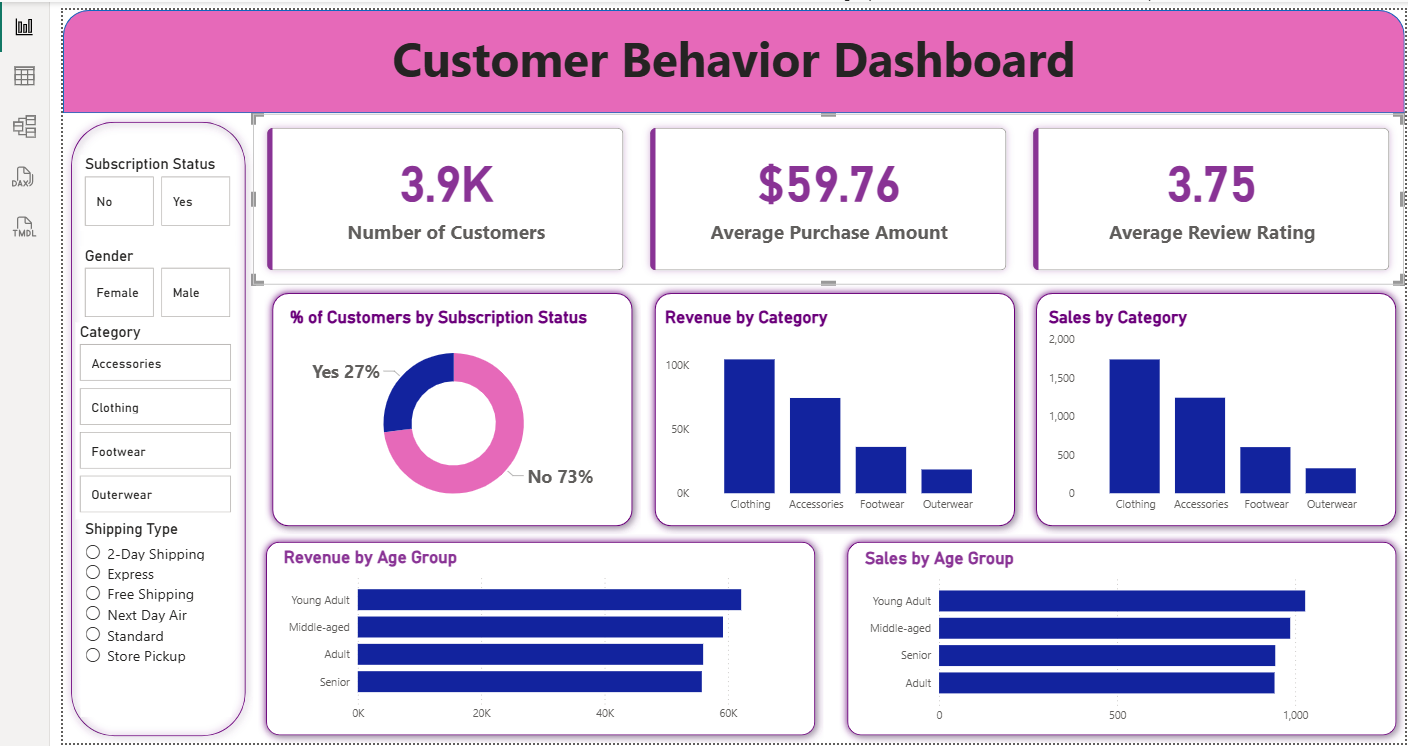

What the dashboard file says about the page in this screenshot:
{"tool":"powerbi","page":{"name":"Page 1","canvas":[1500,820],"ordinal":0},"visuals":[{"type":"cardVisual","fields":{"Data":["public customer.Number of Customers","public customer.Average Purchase Amount","public customer.Average Review Rating"]},"box":[212.9,115.3,1286.5,191.6],"z":2000},{"type":"shape","box":[218.3,585.6,631.7,234.2],"z":2500,"group":"g1"},{"type":"shape","box":[0,0,1499.4,115.3],"z":3000},{"type":"textbox","box":[0,12.4,1499.4,102.9],"z":4000},{"type":"shape","box":[225.4,307,420.5,278.6],"z":5000},{"type":"donutChart","title":"% of Customers by Subscription Status","fields":{"Category":["public customer.subscription_status"],"Y":["CountNonNull(public customer.customer_id)"]},"box":[248.4,331.8,376.2,237.8],"z":6000},{"type":"shape","box":[1078.9,307,420.5,278.6],"z":7000},{"type":"shape","box":[652.1,307,420.5,278.6],"z":8000},{"type":"clusteredColumnChart","title":"Revenue by Category","fields":{"Y":["Sum(public customer.purchase_amount)"],"Category":["public customer.category"]},"box":[667.2,331.8,385.1,237.8],"z":9000},{"type":"clusteredColumnChart","title":"Sales by Category","fields":{"Y":["CountNonNull(public customer.customer_id)"],"Category":["public customer.category"]},"box":[1096.6,331.8,385.1,237.8],"z":10000},{"type":"shape","box":[0,115.6,213.1,704.7],"z":11000},{"type":"advancedSlicerVisual","fields":{"Values":["public customer.subscription_status"]},"box":[19.5,161.5,173.9,85.2],"z":12000},{"type":"advancedSlicerVisual","fields":{"Values":["public customer.gender"]},"box":[19.5,264.4,173.9,85.2],"z":13000},{"type":"advancedSlicerVisual","fields":{"Values":["public customer.category"]},"box":[14.2,358.4,179.2,186.3],"z":14000},{"type":"listSlicer","fields":{"Values":["public customer.shipping_type"]},"box":[19.5,569.6,168.6,220],"z":15000},{"type":"shape","box":[867.7,585.6,631.7,234.2],"z":16000},{"type":"clusteredBarChart","title":"Sales by Age Group","fields":{"Y":["CountNonNull(public customer.customer_id)"],"Category":["public customer.age_group"]},"box":[890.8,601.5,585.6,204.1],"z":17000},{"type":"clusteredBarChart","title":"Revenue by Age Group","fields":{"Y":["Sum(public customer.purchase_amount)"],"Category":["public customer.age_group"]},"box":[241.4,601.6,585.6,204.1],"z":17500,"group":"g1"},{"type":"group","id":"g1","title":"Group 1","box":[218.3,585.6,631.7,234.2],"z":17501}]}

Visuals, with their boxes in screenshot pixels (x1, y1, x2, y2):
cardVisual - public customer.Number of Customers x public customer.Average Purchase Amount: BBox(260, 114, 1407, 286)
shape: BBox(265, 535, 831, 745)
shape: BBox(70, 11, 1407, 114)
textbox: BBox(70, 22, 1407, 114)
shape: BBox(271, 286, 648, 535)
"% of Customers by Subscription Status" donutChart: BBox(292, 308, 629, 521)
shape: BBox(1035, 286, 1407, 535)
shape: BBox(653, 286, 1030, 535)
"Revenue by Category" clusteredColumnChart: BBox(667, 308, 1012, 521)
"Sales by Category" clusteredColumnChart: BBox(1051, 308, 1396, 521)
shape: BBox(70, 114, 260, 745)
advancedSlicerVisual - public customer.subscription_status: BBox(87, 156, 243, 232)
advancedSlicerVisual - public customer.gender: BBox(87, 248, 243, 324)
advancedSlicerVisual - public customer.category: BBox(82, 332, 243, 499)
listSlicer - public customer.shipping_type: BBox(87, 521, 238, 718)
shape: BBox(846, 535, 1407, 745)
"Sales by Age Group" clusteredBarChart: BBox(867, 549, 1391, 732)
"Revenue by Age Group" clusteredBarChart: BBox(286, 550, 810, 732)
"Group 1" group: BBox(265, 535, 831, 745)
